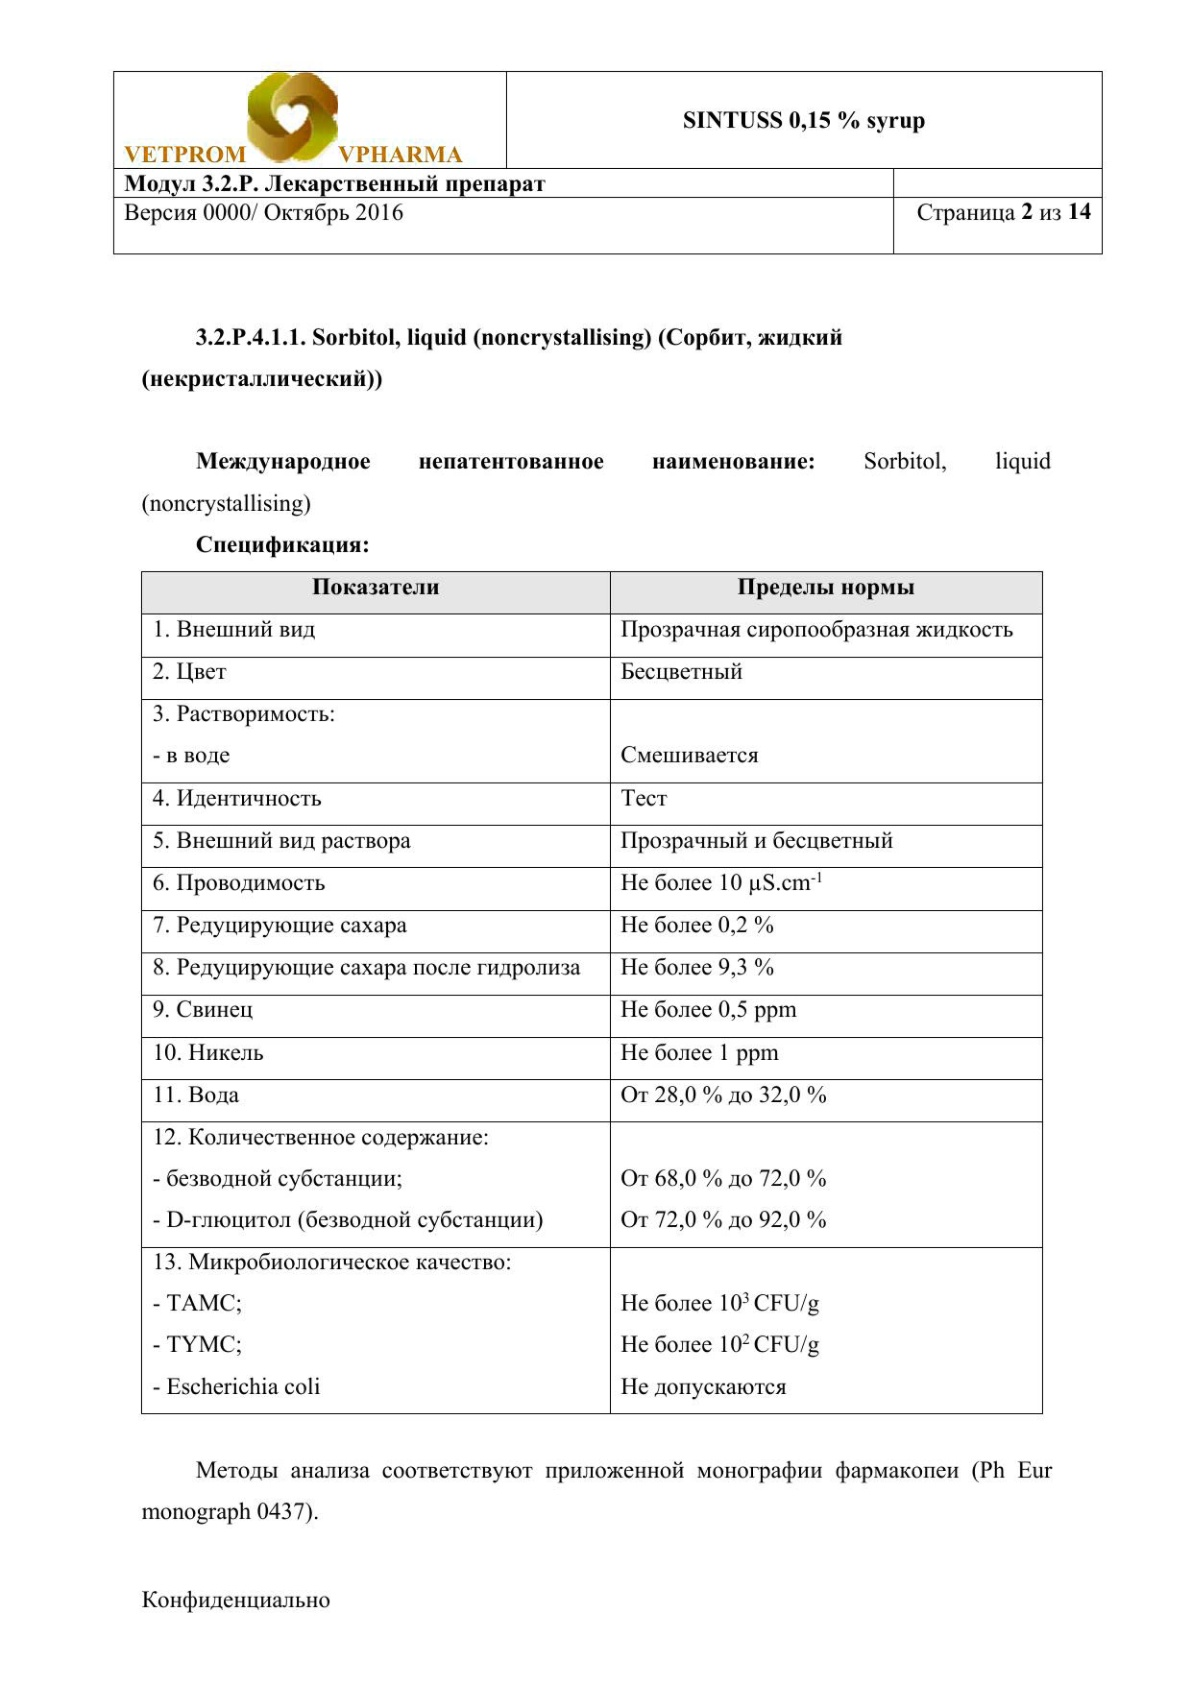full_lined: (141, 569, 1044, 1415)
merged_cells: (112, 68, 1104, 255)
